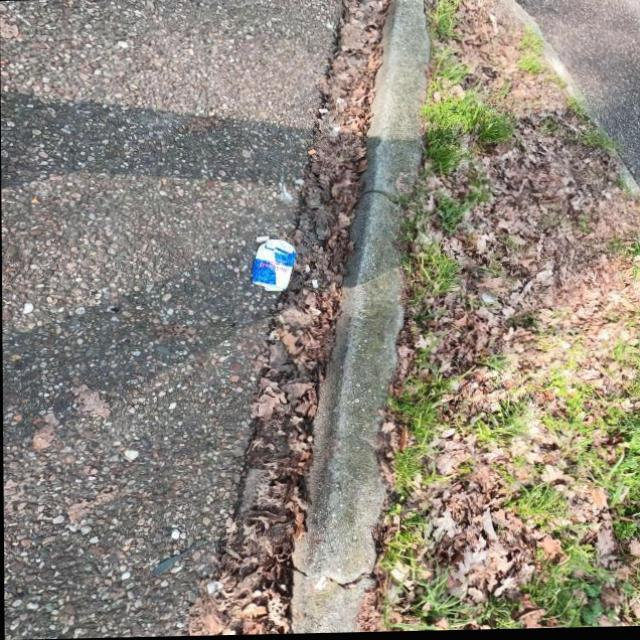Can-Metal: (250, 235, 298, 294)
